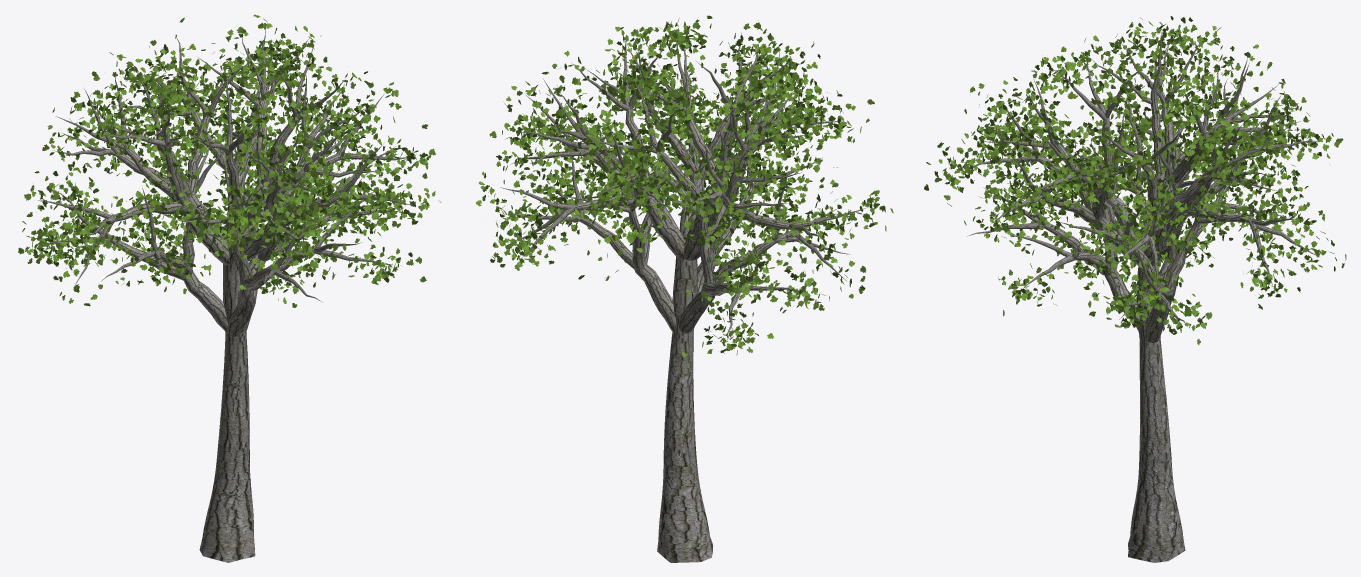
3 views of the same model, side by side, from view 1: azimuth 30°, elevation 25°; view 2: azimuth 150°, elevation 25°; view 3: azimuth 270°, elevation 25° (orthographic).
Parts seen in each view (by area): view 1: Fresno foliage cards, Fresno_EasyTree_V020_Proof; view 2: Fresno foliage cards, Fresno_EasyTree_V020_Proof; view 3: Fresno foliage cards, Fresno_EasyTree_V020_Proof.
Part boxes in pixels (<box>): Fresno foliage cards: <box>18,14,441,307</box>; Fresno_EasyTree_V020_Proof: <box>38,27,415,562</box>; Fresno foliage cards: <box>476,15,893,357</box>; Fresno_EasyTree_V020_Proof: <box>500,32,866,562</box>; Fresno foliage cards: <box>924,16,1346,345</box>; Fresno_EasyTree_V020_Proof: <box>962,29,1319,562</box>.
Bounding box in the file's own units: 7.34 × 9.5 × 7.21.
Materials: 2 (2 with a texture image).
